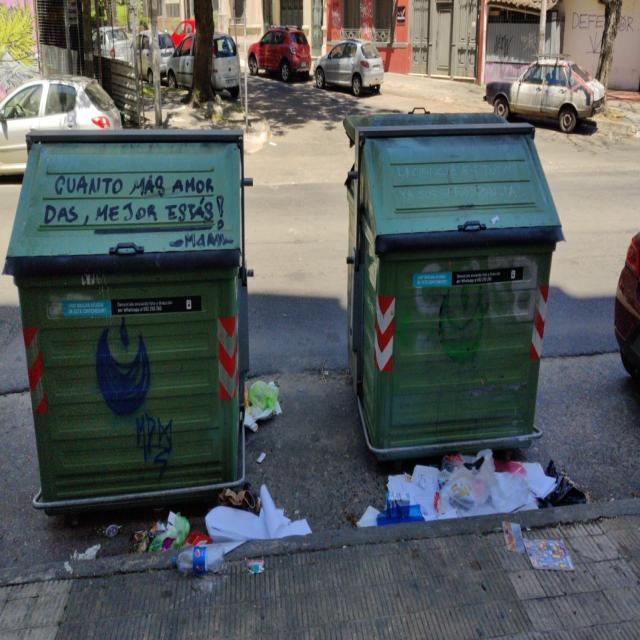garbage: (347, 397, 600, 588), (76, 467, 357, 585), (240, 356, 300, 466)
